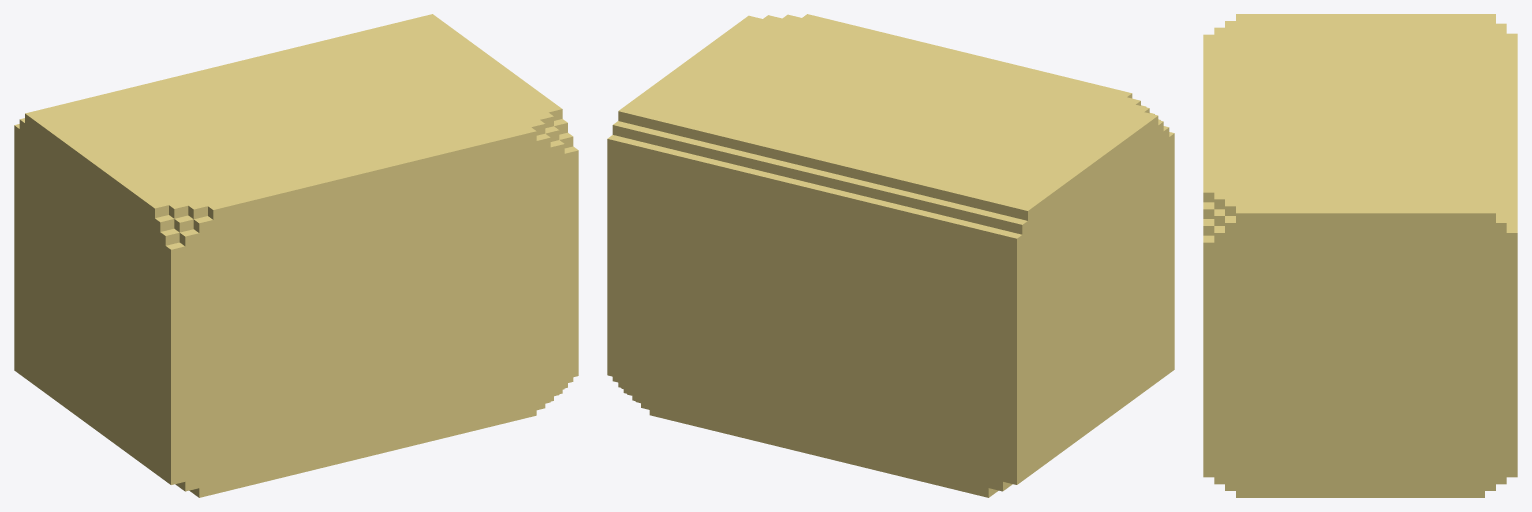
Rendered from BrickV3.fbx.
3 views of the same model, side by side, from view 1: azimuth 30°, elevation 25°; view 2: azimuth 150°, elevation 25°; view 3: azimuth 270°, elevation 25° (orthographic).
Parts seen in each view (by area): view 1: BrickV3; view 2: BrickV3; view 3: BrickV3.
Boxes of the visible parts, bbox=[...] form: BrickV3: bbox=[14, 14, 578, 497]; BrickV3: bbox=[607, 14, 1174, 497]; BrickV3: bbox=[1203, 14, 1517, 497].
Size of the model in its own units: 0.6042 by 0.4028 by 0.4028.
